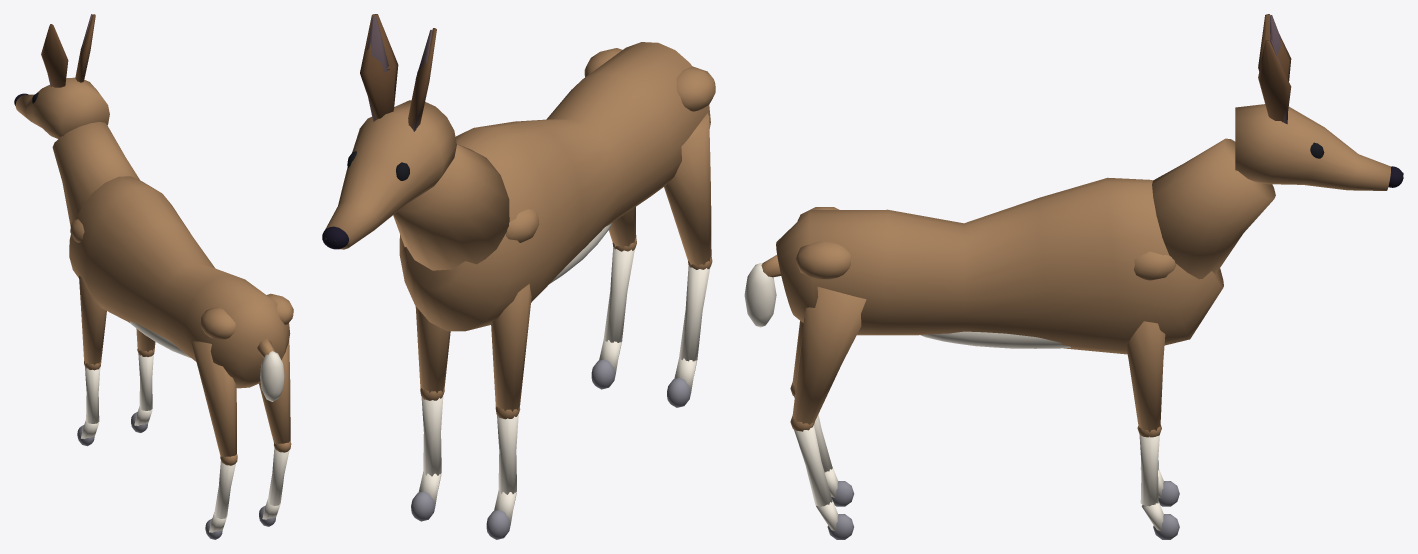
The model's file is beast_hare.glb.
The picture shows the model from 3 angles, left to right: view 1: azimuth 30°, elevation 25°; view 2: azimuth 150°, elevation 25°; view 3: azimuth 270°, elevation 25°; orthographic projection. The views are drawn at different scales.
Parts seen in each view (by area): view 1: body, neck, head, leg_br, leg_fr, leg_bl, tail, ear_r, shin_fl, shin_fr, shin_br, shin_bl (+2 smaller); view 2: body, head, neck, leg_br, leg_fr, shin_bl, shin_br, ear_l, shin_fl, shin_fr, leg_fl, ear_r (+1 smaller); view 3: body, neck, head, leg_bl, leg_fl, shin_bl, shin_fl, tail, ear_l, shin_br, ear_r.
Boxes of the visible parts, x1,y1,x2,y2 form: body: (69,176,293,388); neck: (52,122,139,225); head: (14,77,109,138); leg_br: (191,340,237,465); leg_fr: (79,276,106,370); leg_bl: (259,340,291,452); tail: (257,338,284,401); ear_r: (41,24,68,87); shin_fl: (131,353,153,432); shin_fr: (77,367,100,446); shin_br: (205,461,235,539); shin_bl: (259,447,289,526); body: (399,42,715,331); head: (322,100,456,249); neck: (393,144,509,270); leg_br: (664,113,712,269); leg_fr: (491,284,531,419); shin_bl: (591,247,634,389); shin_br: (667,266,710,407); ear_l: (360,14,398,121); shin_fl: (411,395,443,521); shin_fr: (486,414,518,539); leg_fl: (415,306,450,400); ear_r: (408,28,436,131); body: (776,177,1223,354); neck: (1152,138,1275,279); head: (1235,104,1403,190); leg_bl: (790,287,866,431); leg_fl: (1126,321,1165,437); shin_bl: (794,425,853,539); shin_fl: (1139,435,1179,539); tail: (744,255,781,327); ear_l: (1258,40,1291,124); shin_br: (794,396,854,506); ear_r: (1258,14,1291,81).
Size of the model in its own units: 0.38 by 1.53 by 1.85.
